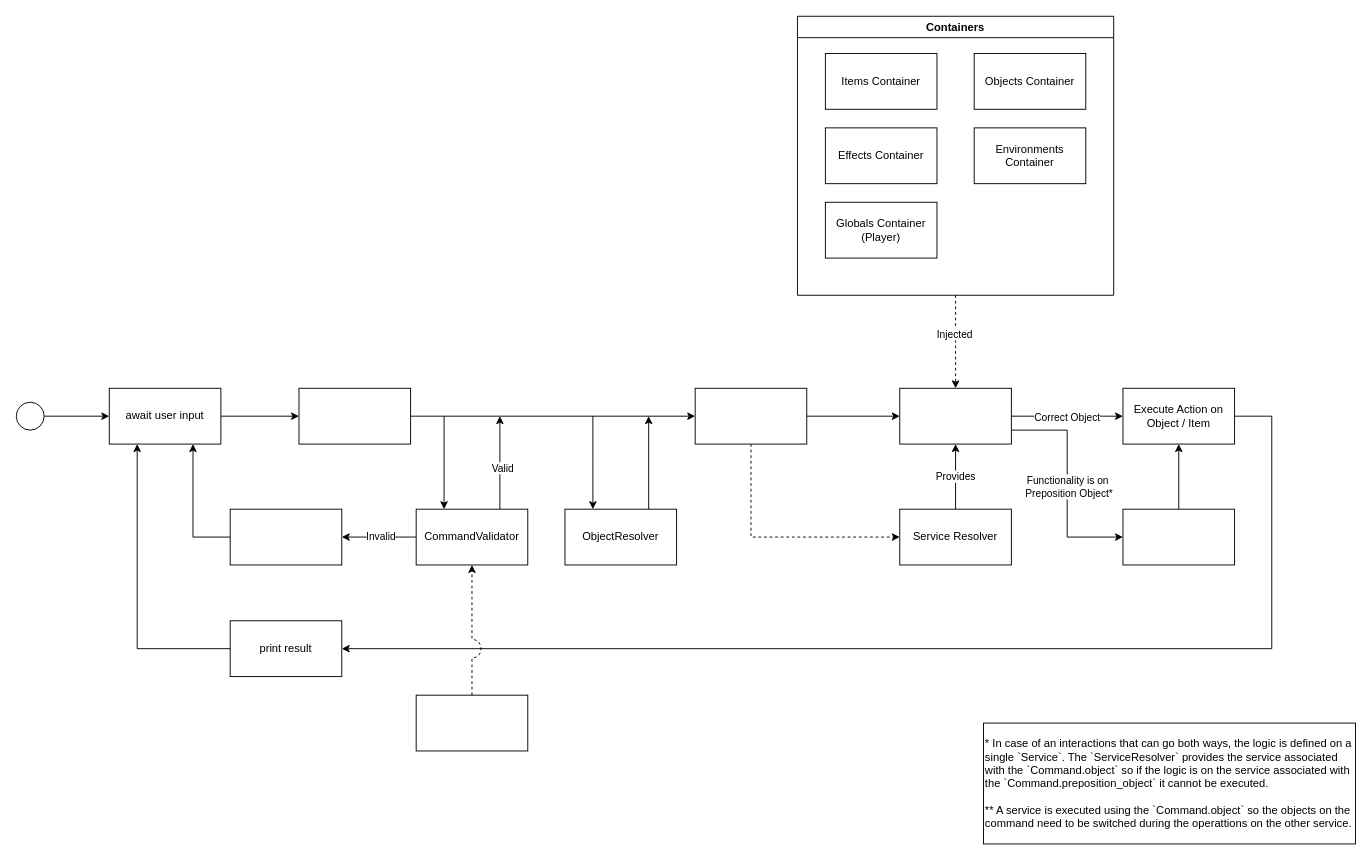
Image size: 1372x860. Some labels were removed from this diagram. The centre of each missing label's shape, as x and y in pixels:
Command (with objects): the point at 750,415
Command (with strings): the point at 354,415
Config: the point at 471,722
Import service and execute with switched objects**: the point at 1178,536
print error: the point at 285,536
Service (Object / Item): the point at 955,415
